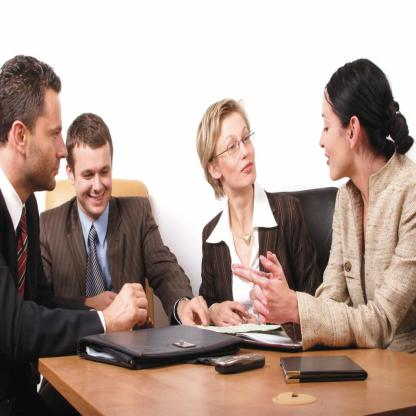face: (31, 85, 69, 194), (219, 119, 258, 186), (76, 150, 114, 217), (319, 103, 344, 180)
